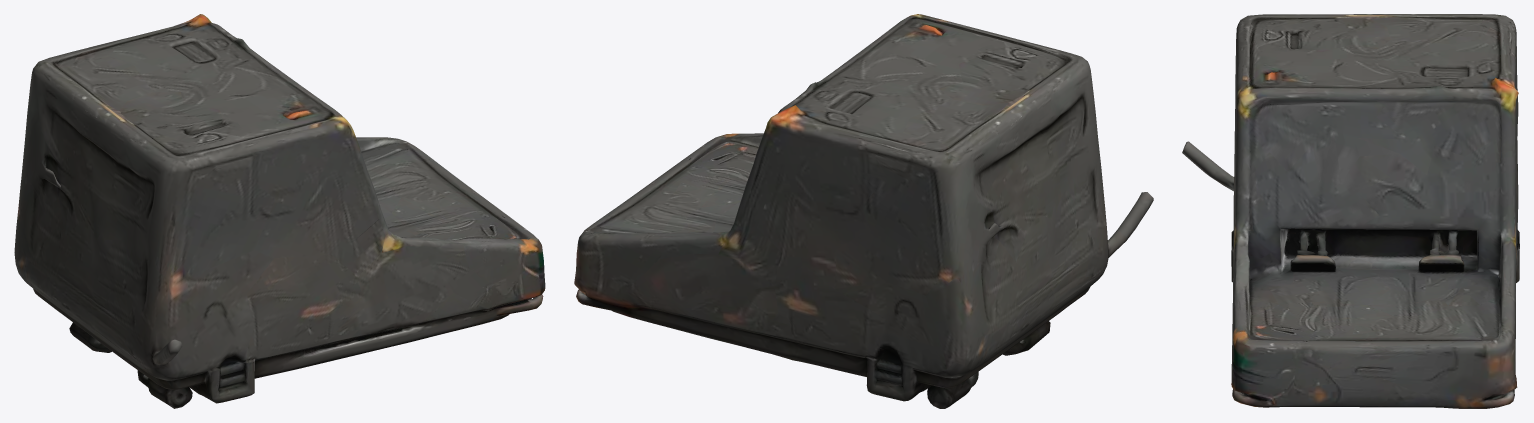
Rendered from dock.glb.
3 views of the same model, side by side, from view 1: azimuth 30°, elevation 25°; view 2: azimuth 150°, elevation 25°; view 3: azimuth 270°, elevation 25° (orthographic). The views are drawn at different scales.
Parts seen in each view (by area): view 1: tripo_node_b3cb0a63-9d42-4aa5-9722-6b25cd09c8c5; view 2: tripo_node_b3cb0a63-9d42-4aa5-9722-6b25cd09c8c5; view 3: tripo_node_b3cb0a63-9d42-4aa5-9722-6b25cd09c8c5.
Boxes of the visible parts, left/top/right/bottom form: tripo_node_b3cb0a63-9d42-4aa5-9722-6b25cd09c8c5: left=14, top=14, right=545, bottom=408; tripo_node_b3cb0a63-9d42-4aa5-9722-6b25cd09c8c5: left=574, top=14, right=1153, bottom=408; tripo_node_b3cb0a63-9d42-4aa5-9722-6b25cd09c8c5: left=1182, top=14, right=1519, bottom=408.
Bounding box in the file's own units: 1 × 0.6489 × 0.7449.
1 material, 1 textured.
